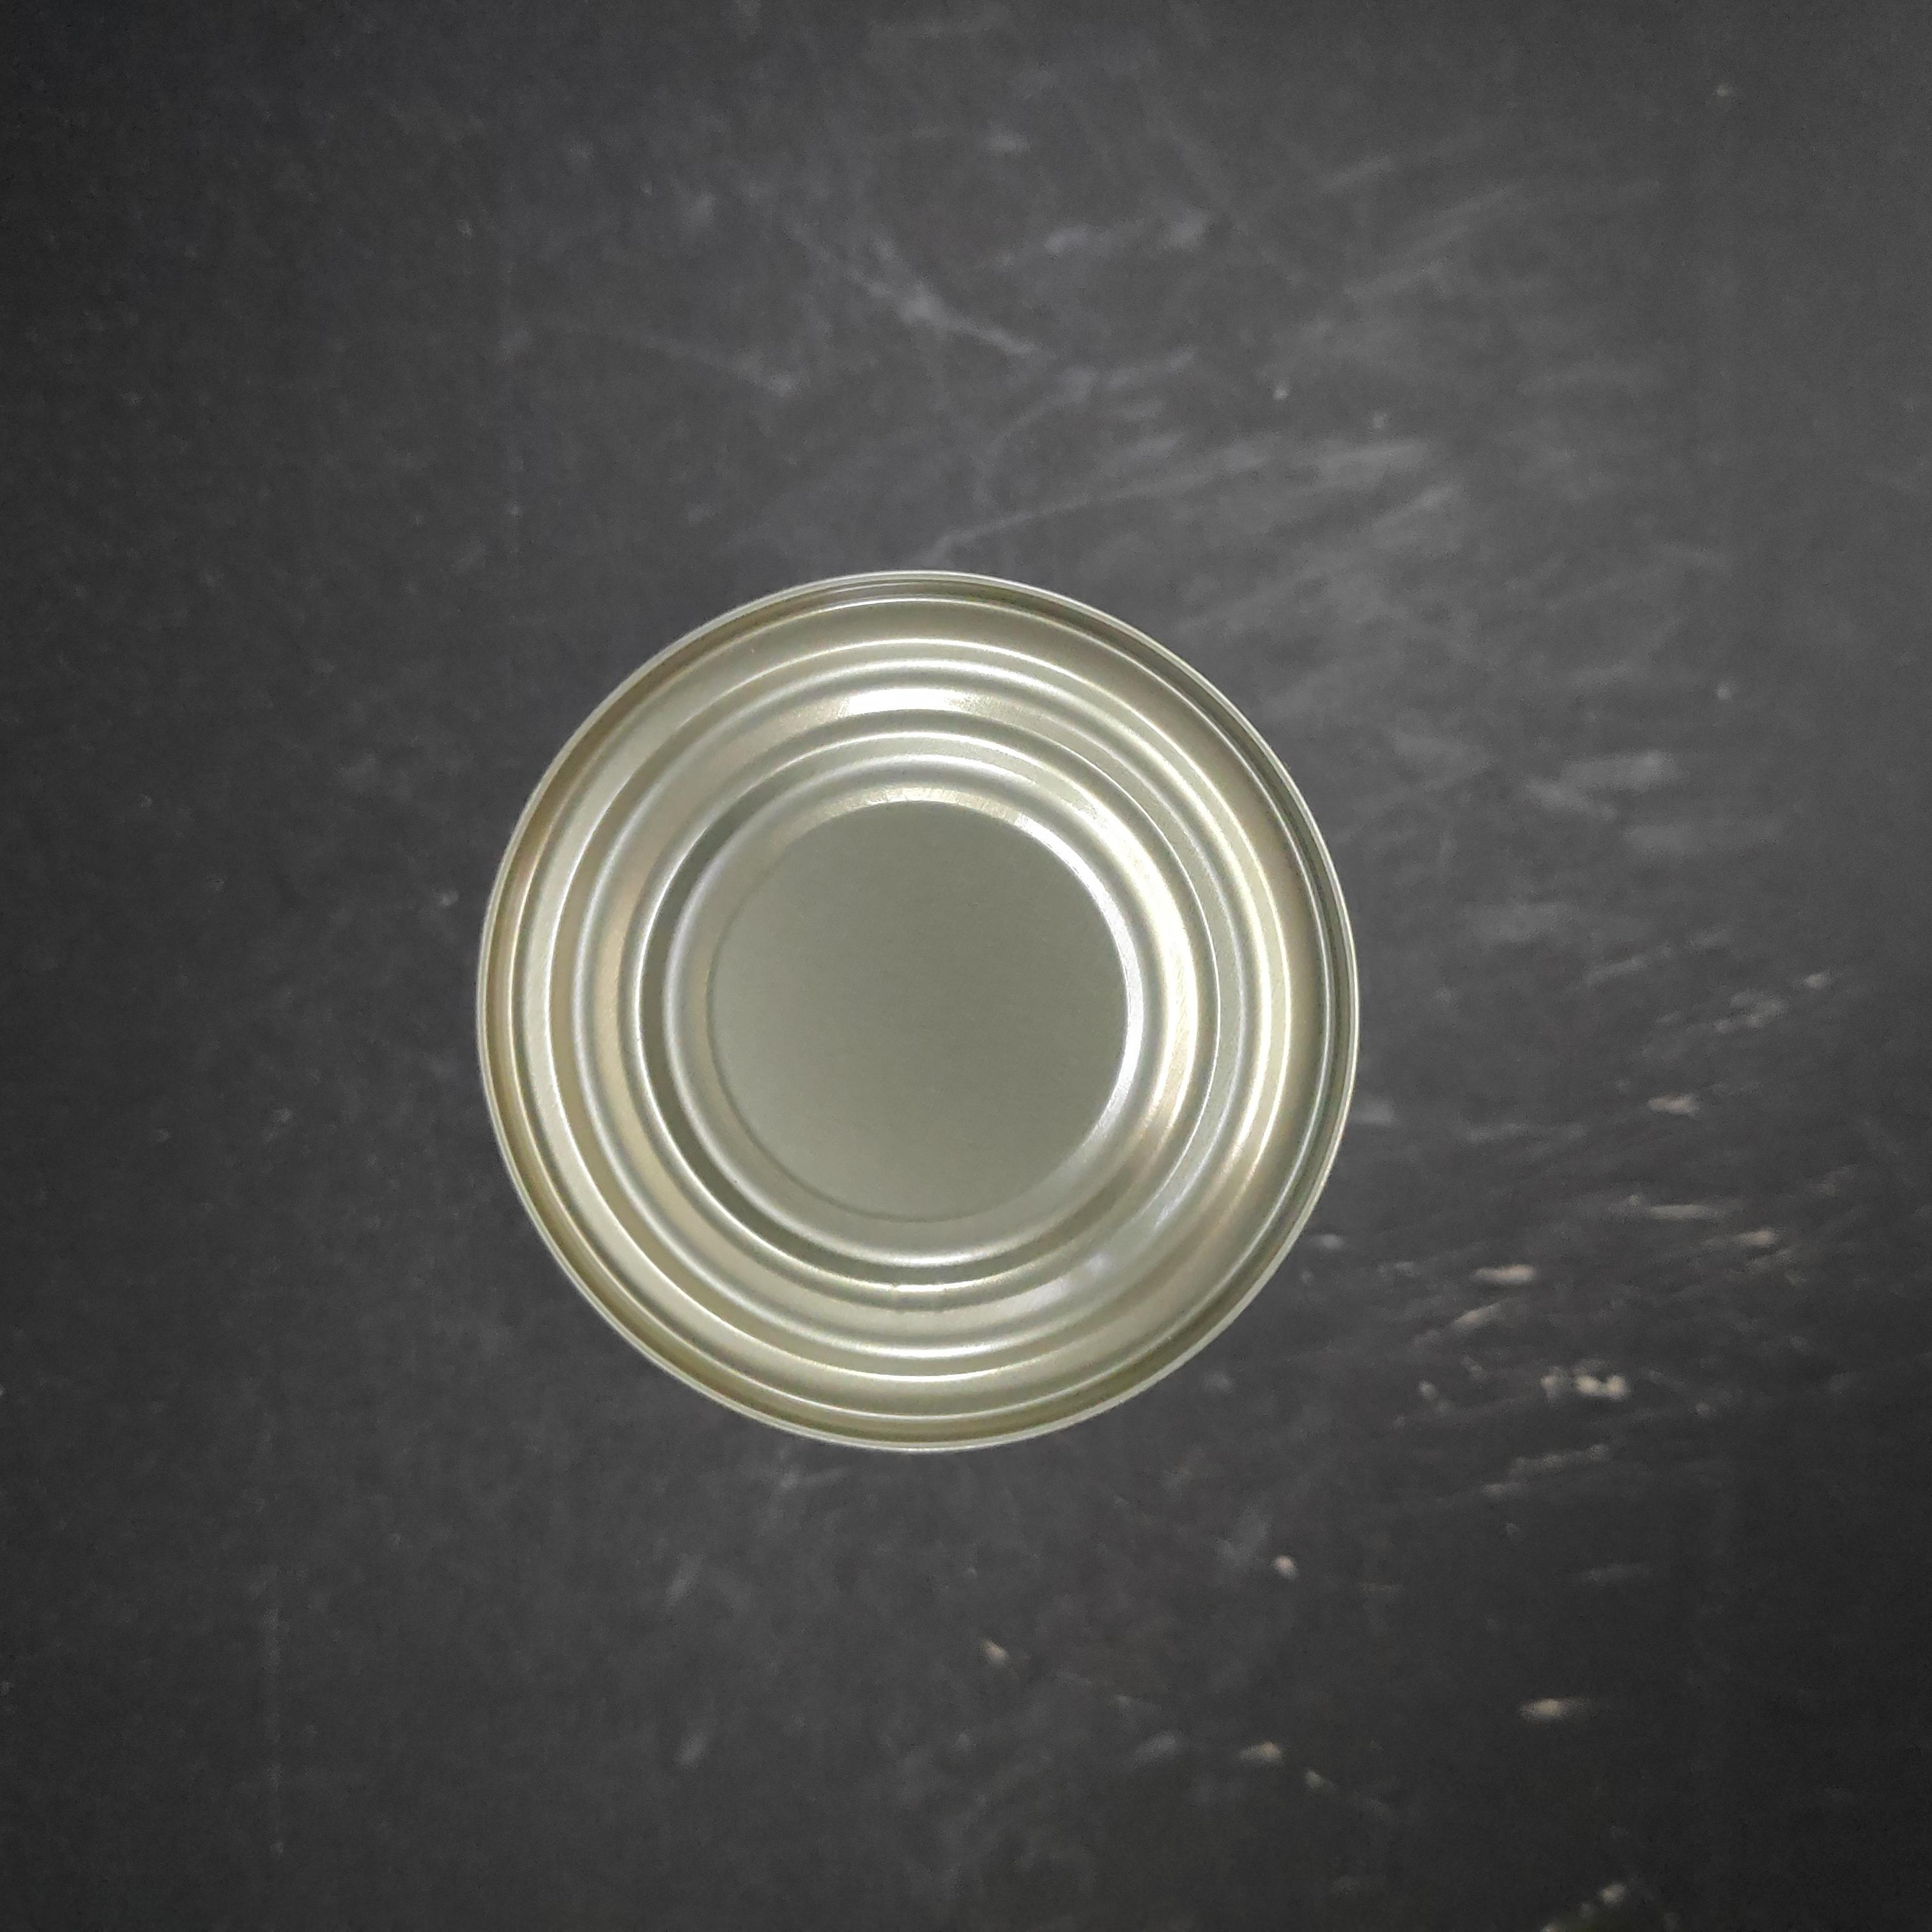No defect: (566, 571, 1456, 1460)
